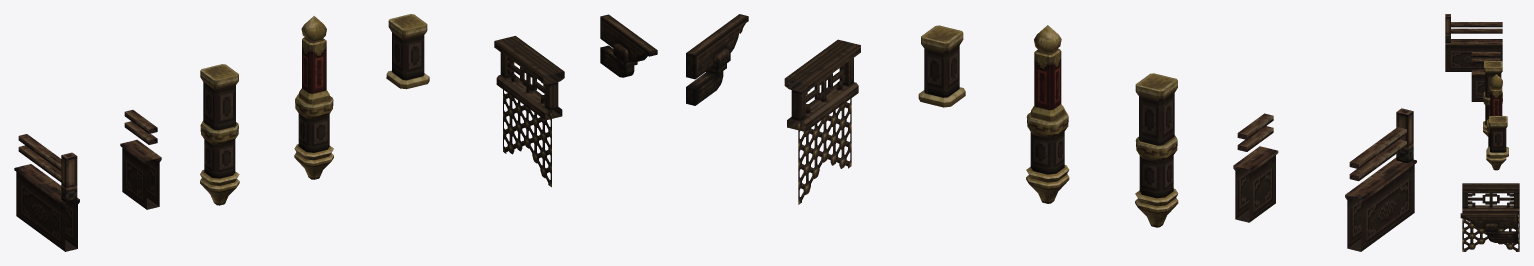
The model's file is EnvMdrMD_Desert_Tower_A_Beam_D.FBX.
The picture shows the model from 3 angles, left to right: view 1: azimuth 30°, elevation 25°; view 2: azimuth 150°, elevation 25°; view 3: azimuth 270°, elevation 25°; orthographic projection. The views are drawn at different scales.
Parts seen in each view (by area): view 1: EnvMdrMD_Desert_Tower_A_Fenece_B_Loop_A, EnvMdrMD_Desert_Tower_A_Fenece_A, EnvMdrMD_Desert_Tower_A_Fence_Post_E, EnvMdrMD_Desert_Tower_A_Fence_Post_C, EnvMdrMD_Desert_Tower_A_Fenece_A_Half, EnvMdrMD_Desert_Tower_A_Fence_Post_B, EnvMdrMD_Desert_Tower_A_Beam_D; view 2: EnvMdrMD_Desert_Tower_A_Fenece_B_Loop_A, EnvMdrMD_Desert_Tower_A_Fenece_A, EnvMdrMD_Desert_Tower_A_Fence_Post_E, EnvMdrMD_Desert_Tower_A_Fence_Post_C, EnvMdrMD_Desert_Tower_A_Fenece_A_Half, EnvMdrMD_Desert_Tower_A_Fence_Post_B, EnvMdrMD_Desert_Tower_A_Beam_D; view 3: EnvMdrMD_Desert_Tower_A_Fenece_B_Loop_A, EnvMdrMD_Desert_Tower_A_Fenece_A, EnvMdrMD_Desert_Tower_A_Beam_D, EnvMdrMD_Desert_Tower_A_Fence_Post_B, EnvMdrMD_Desert_Tower_A_Fence_Post_E, EnvMdrMD_Desert_Tower_A_Fenece_A_Half, EnvMdrMD_Desert_Tower_A_Fence_Post_C.
Boxes of the visible parts, <box> form: EnvMdrMD_Desert_Tower_A_Fenece_B_Loop_A: <box>494,36,564,187</box>; EnvMdrMD_Desert_Tower_A_Fenece_A: <box>14,134,79,251</box>; EnvMdrMD_Desert_Tower_A_Fence_Post_E: <box>294,16,333,179</box>; EnvMdrMD_Desert_Tower_A_Fence_Post_C: <box>200,64,239,205</box>; EnvMdrMD_Desert_Tower_A_Fenece_A_Half: <box>120,110,161,209</box>; EnvMdrMD_Desert_Tower_A_Fence_Post_B: <box>386,14,429,89</box>; EnvMdrMD_Desert_Tower_A_Beam_D: <box>600,14,657,77</box>; EnvMdrMD_Desert_Tower_A_Fenece_B_Loop_A: <box>784,39,860,204</box>; EnvMdrMD_Desert_Tower_A_Fenece_A: <box>1345,108,1416,251</box>; EnvMdrMD_Desert_Tower_A_Fence_Post_E: <box>1026,25,1069,203</box>; EnvMdrMD_Desert_Tower_A_Fence_Post_C: <box>1135,73,1178,227</box>; EnvMdrMD_Desert_Tower_A_Fenece_A_Half: <box>1233,113,1278,222</box>; EnvMdrMD_Desert_Tower_A_Fence_Post_B: <box>918,25,965,107</box>; EnvMdrMD_Desert_Tower_A_Beam_D: <box>686,14,748,105</box>; EnvMdrMD_Desert_Tower_A_Fenece_B_Loop_A: <box>1462,183,1519,251</box>; EnvMdrMD_Desert_Tower_A_Fenece_A: <box>1445,14,1502,71</box>; EnvMdrMD_Desert_Tower_A_Beam_D: <box>1460,213,1517,242</box>; EnvMdrMD_Desert_Tower_A_Fence_Post_B: <box>1487,116,1508,157</box>; EnvMdrMD_Desert_Tower_A_Fence_Post_E: <box>1486,74,1506,170</box>; EnvMdrMD_Desert_Tower_A_Fenece_A_Half: <box>1471,52,1500,101</box>; EnvMdrMD_Desert_Tower_A_Fence_Post_C: <box>1483,61,1502,136</box>.
Size of the model in its own units: 1445 by 455 by 260.
1 material, 1 textured.
